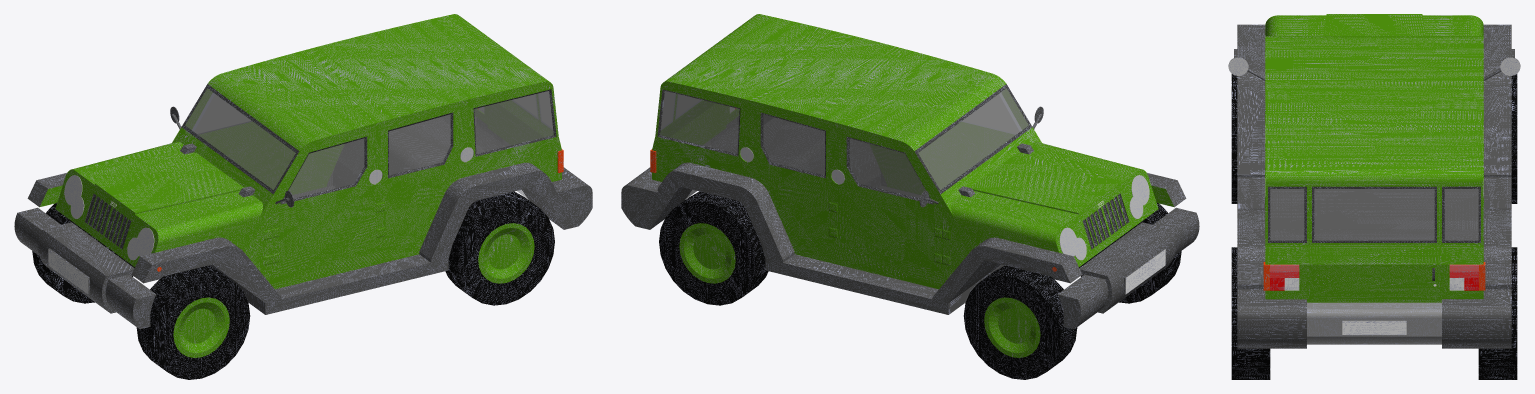
3 views of the same model, side by side, from view 1: azimuth 30°, elevation 25°; view 2: azimuth 150°, elevation 25°; view 3: azimuth 270°, elevation 25° (orthographic). The views are drawn at different scales.
Parts seen in each view (by area): view 1: group_0 (×26); view 2: group_0 (×26); view 3: group_0 (×16).
Boxes of the visible parts, x1,y1,x2,y2 form: group_0 (×26): [14, 14, 592, 379]; group_0 (×26): [621, 14, 1199, 379]; group_0 (×16): [1228, 14, 1520, 379].
Size of the model in its own units: 140 by 63.98 by 57.32.
